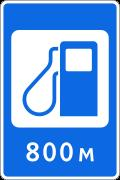Petrol Pump- Gas Station: (7, 20, 116, 171)
